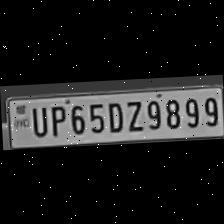5: (84, 99, 104, 134)
6: (65, 100, 85, 134)
8: (160, 94, 182, 130)
9: (198, 92, 220, 128), (141, 96, 161, 130), (180, 94, 200, 128)
D: (103, 97, 123, 132)
P: (45, 101, 66, 137)
U: (27, 102, 48, 138)
Z: (121, 97, 143, 133)
